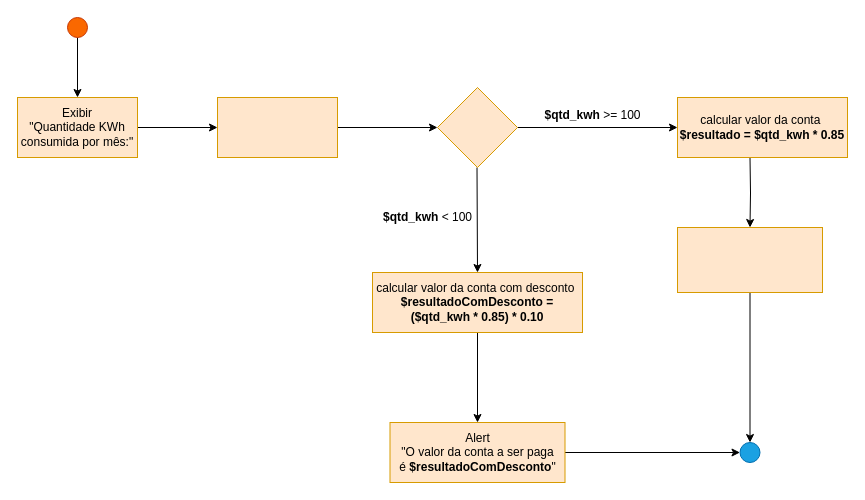
This 865x500 diagram has some shape labels left out. The shapes that lost their labels are listed below. From the top down, each one's centre as x and y in pixels, then its label:
pixel 277 127: ler quantidade de KWh $qtd_kwh
pixel 749 259: Alert "O valor da conta a ser paga é $resultado "
